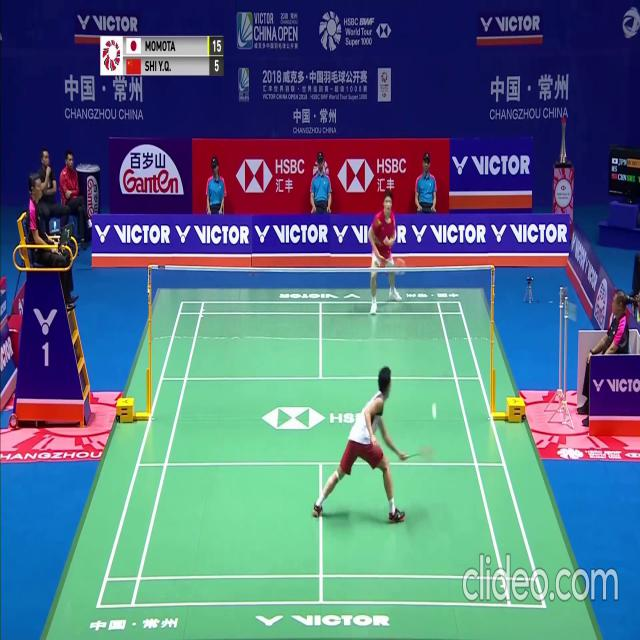Shuttlecock: (432, 414, 437, 422)
